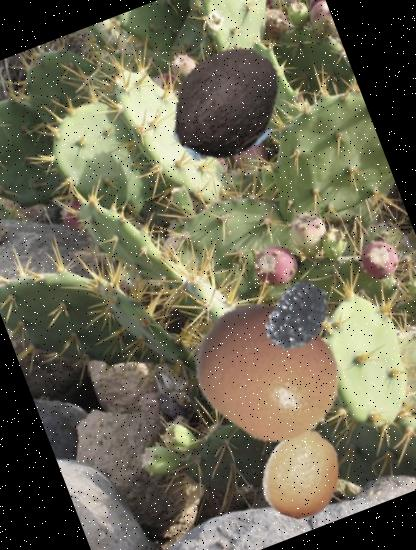Cocos: (148, 26, 306, 184)
Grapefruit: (172, 274, 365, 466)
Lemon: (242, 412, 362, 532)
Mulberry: (250, 270, 344, 364)
